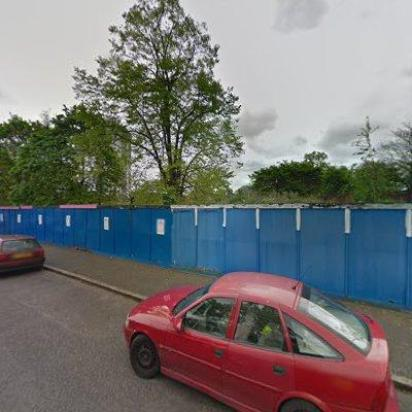stationary-car-onstreet: (120, 271, 396, 411), (0, 231, 48, 278)
